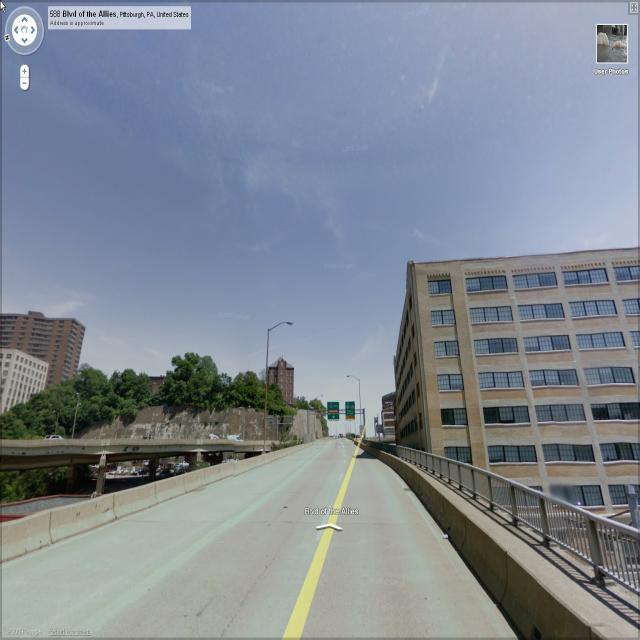b_1: (398, 254, 640, 503), (1, 312, 92, 378), (1, 352, 46, 411), (265, 359, 299, 404), (378, 392, 406, 446)
